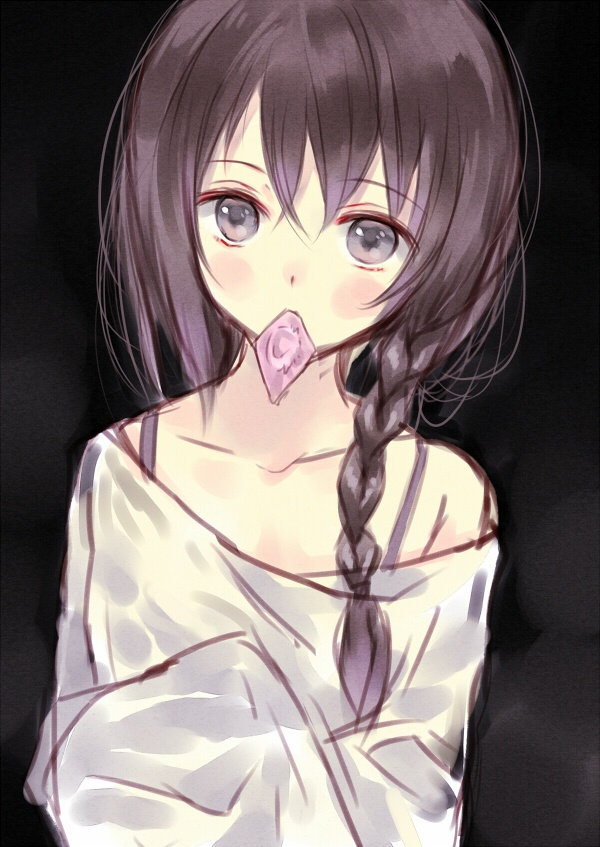纸片人正脸: (105, 0, 538, 374)
